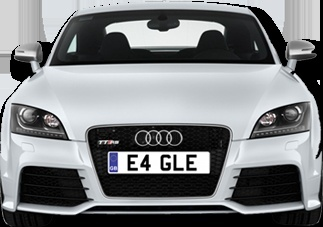plaka: (107, 151, 212, 176)
